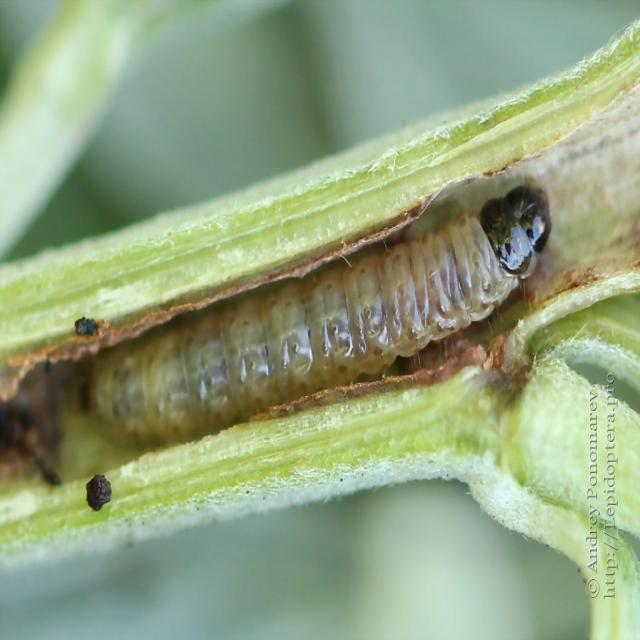cornborer-Larva-: (75, 174, 571, 461)
